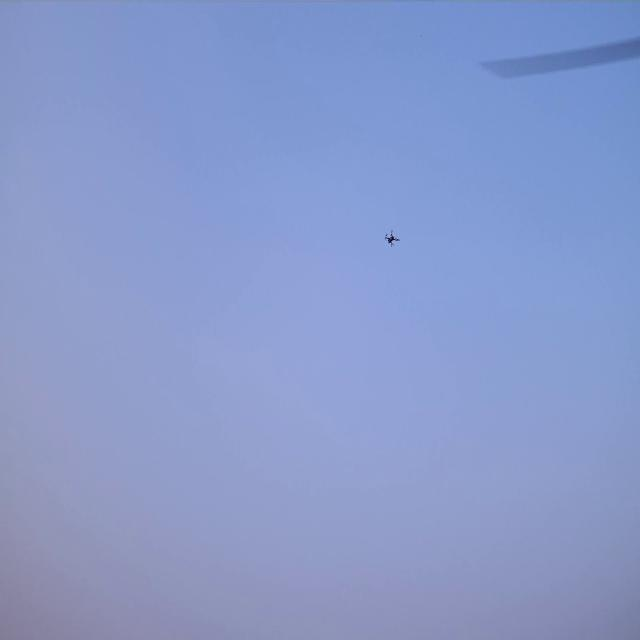UAV: (386, 231, 398, 245)
